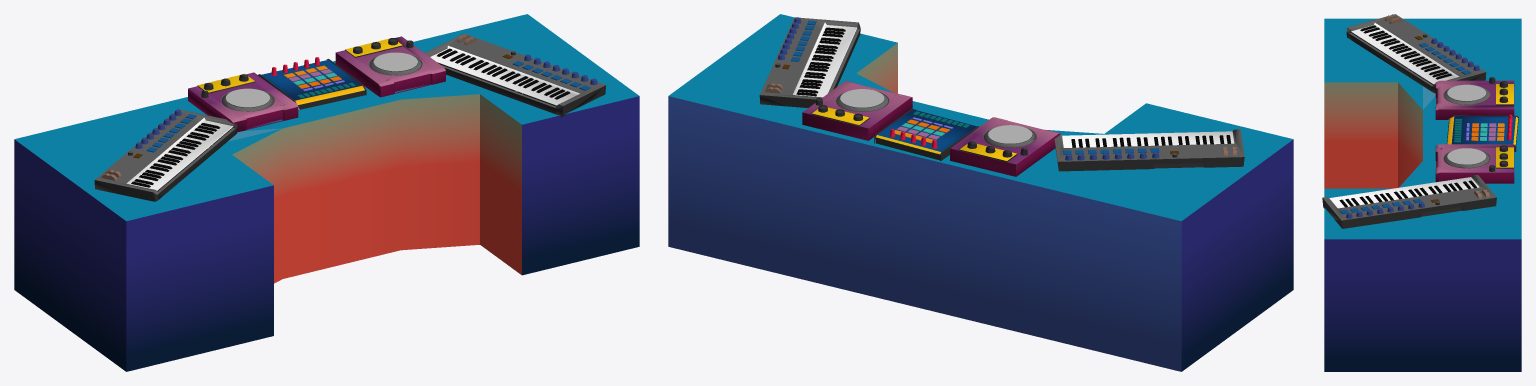
File: DJ-sample-DCL.glb
The picture shows the model from 3 angles, left to right: view 1: azimuth 30°, elevation 25°; view 2: azimuth 150°, elevation 25°; view 3: azimuth 270°, elevation 25°; orthographic projection. The views are drawn at different scales.
Visible parts, largest first — view 1: Object_20.001; view 2: Object_20.001; view 3: Object_20.001.
Boxes of the visible parts, left/top/right/bottom form: Object_20.001: left=14, top=14, right=639, bottom=371; Object_20.001: left=668, top=14, right=1293, bottom=371; Object_20.001: left=1322, top=14, right=1521, bottom=371.
Bounding box in the file's own units: 3.56 × 1.12 × 1.36.
Materials: 1 (1 with a texture image).
